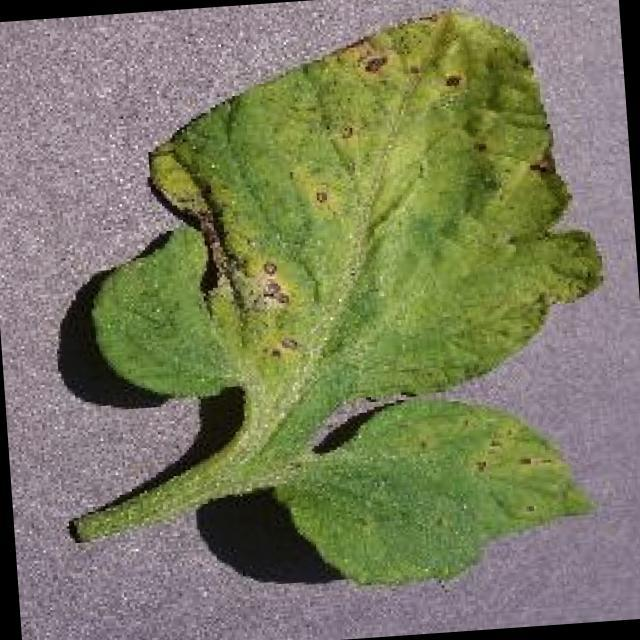Tomato Septoria spot leaf: (65, 0, 627, 606)
